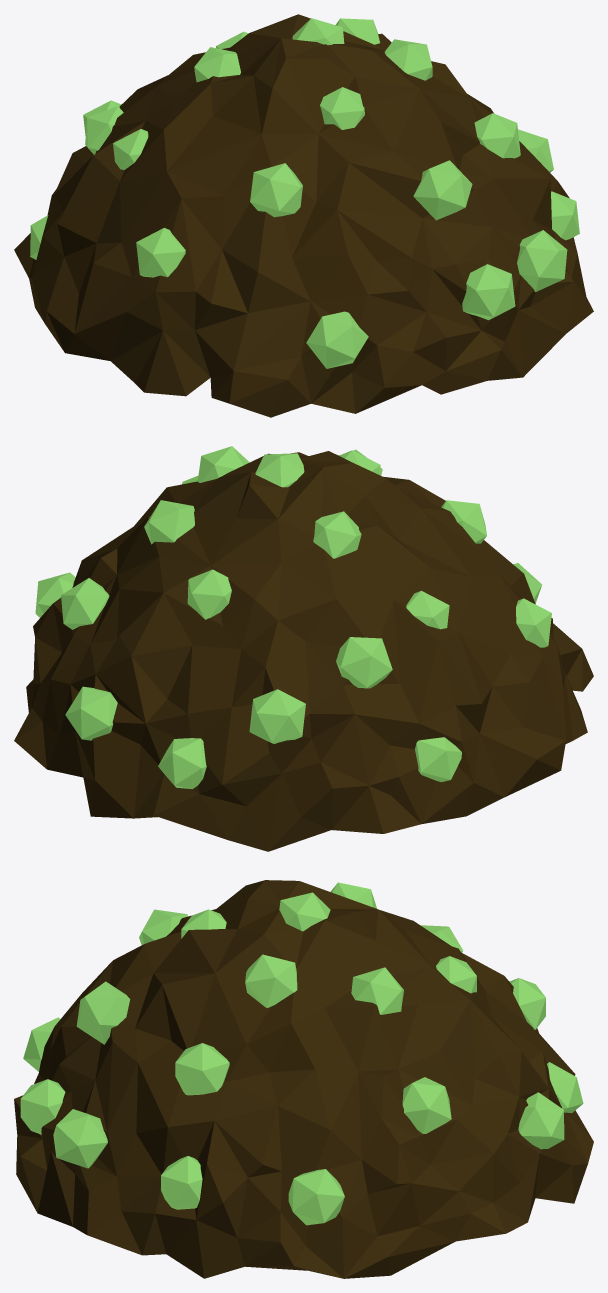
File: fertilizer.fbx
3 renders of one model, top to bottom at view 1: azimuth 30°, elevation 25°; view 2: azimuth 150°, elevation 25°; view 3: azimuth 270°, elevation 25°, orthographic.
Parts seen in each view (by area): view 1: fert mound, fert green; view 2: fert mound, fert green; view 3: fert mound, fert green.
Part boxes in pixels (left/top/right/bottom): fert mound: left=14, top=14, right=593, bottom=417; fert green: left=30, top=18, right=579, bottom=368; fert mound: left=14, top=451, right=593, bottom=851; fert green: left=35, top=446, right=551, bottom=788; fert mound: left=14, top=880, right=593, bottom=1278; fert green: left=20, top=882, right=583, bottom=1225.
Bounding box in the file's own units: 249 × 133 × 246.
